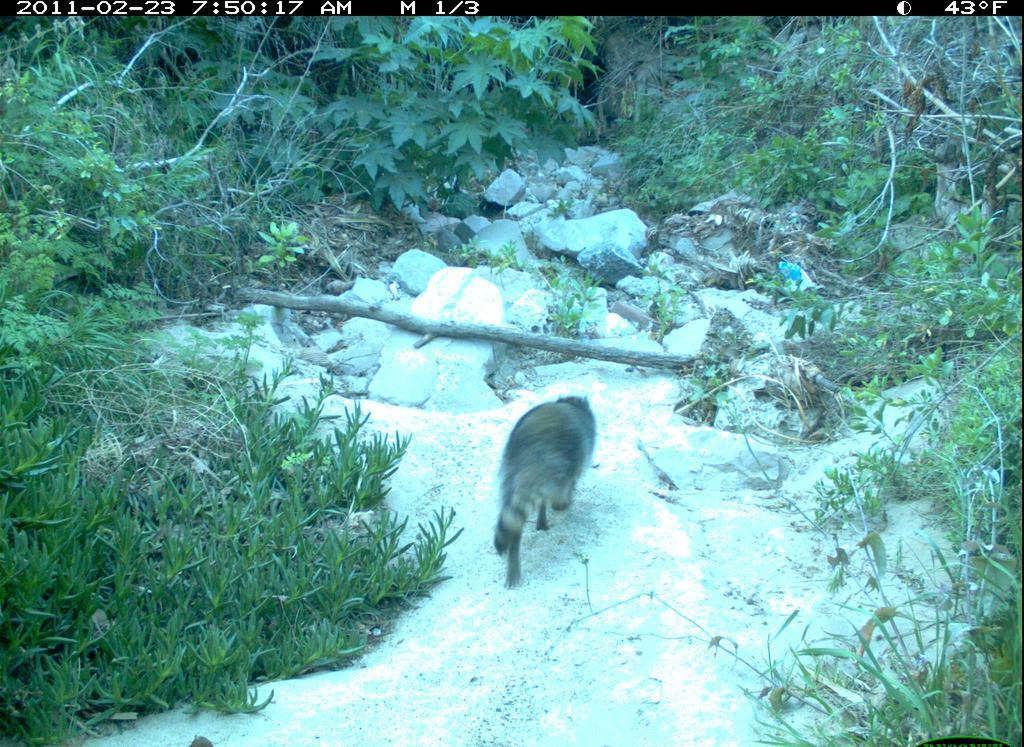raccoon: (481, 386, 619, 593)
